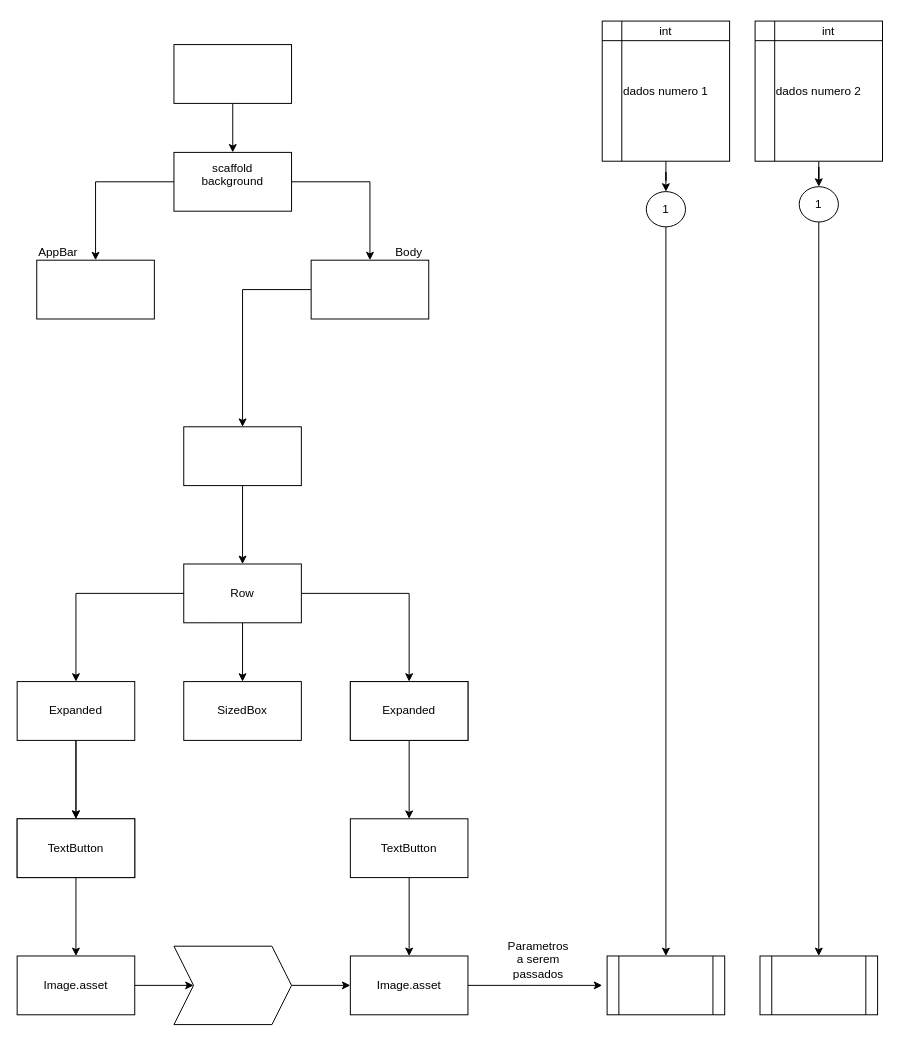
The diagram is 900 pixels wide and 1042 high, and some of its shapes have lost their labels. Here are the shapes that lost their labels. From the top down, the centre of each, then its label:
At [232,73]: "material app".
At [95,289]: "AppBar title background".
At [369,289]: "Dados".
At [242,456]: "Center".
At [232,985]: "Receberam a mesma lógica".
At [665,985]: "Radom (0,5) + 1".
At [818,985]: "Random (0,5)+1".
